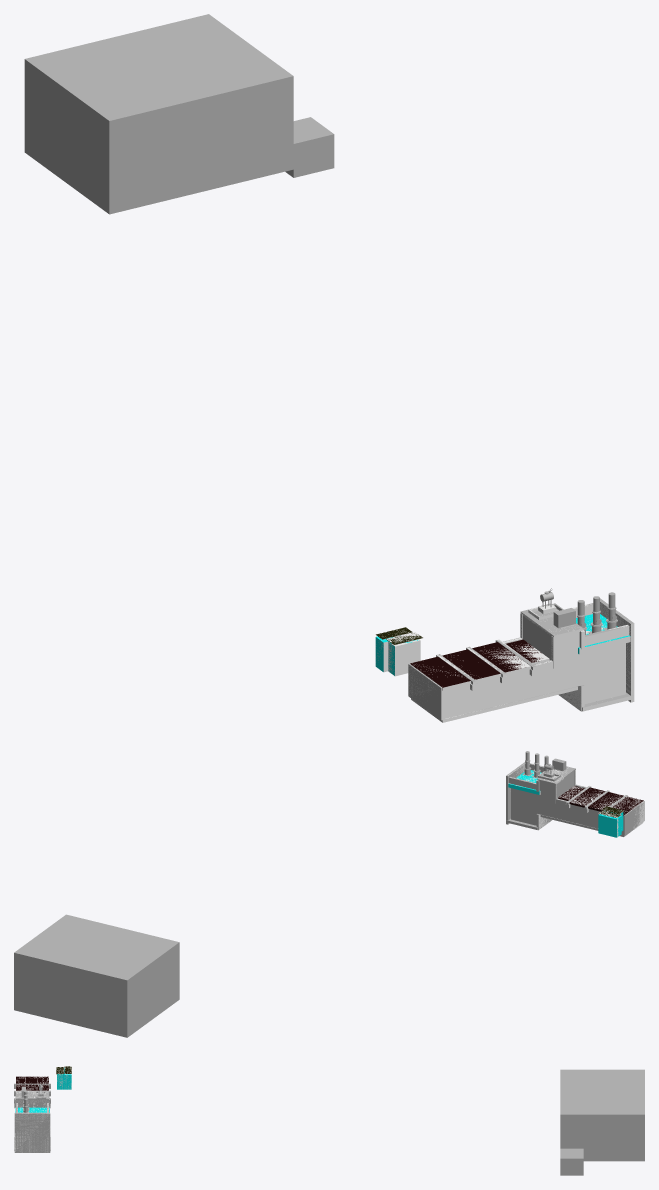
File: BuldingB.fbx
3 views of the same model, one above another, from view 1: azimuth 30°, elevation 25°; view 2: azimuth 150°, elevation 25°; view 3: azimuth 270°, elevation 25° (orthographic). The views are drawn at different scales.
Parts seen in each view (by area): view 1: Solid (×2), SmartSolid (×3); view 2: Solid, SmartSolid (×2); view 3: Solid (×2), SmartSolid (×7).
Part boxes in pixels (<box>): Solid (×2): <box>24,14,334,214</box>; SmartSolid (×3): <box>376,632,625,719</box>; Solid: <box>14,914,179,1037</box>; SmartSolid (×2): <box>511,781,623,837</box>; Solid (×2): <box>560,1069,644,1175</box>; SmartSolid (×7): <box>14,1068,71,1152</box>.
Size of the model in its own units: 55.08 by 135 by 20.76.
